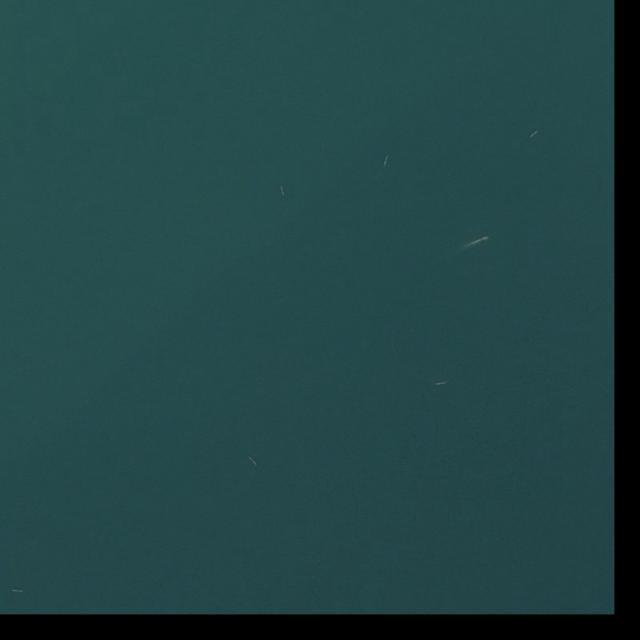ship: (247, 455, 258, 468), (529, 129, 540, 140), (382, 154, 390, 167), (280, 186, 286, 198), (482, 235, 490, 242), (434, 382, 447, 386), (12, 589, 24, 593)
